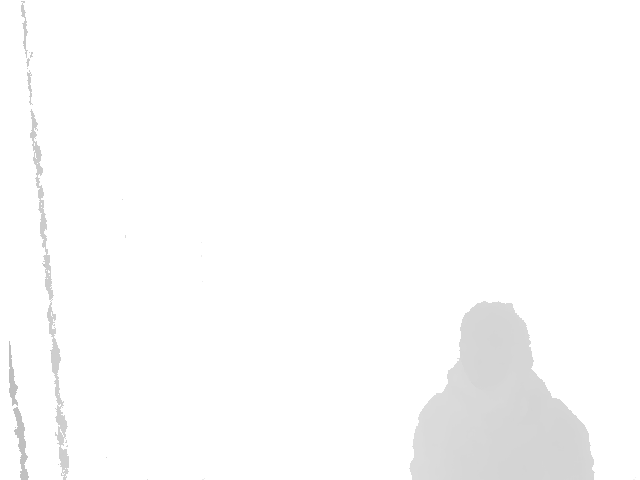head: (459, 301, 534, 388)
person: (408, 302, 597, 480)
